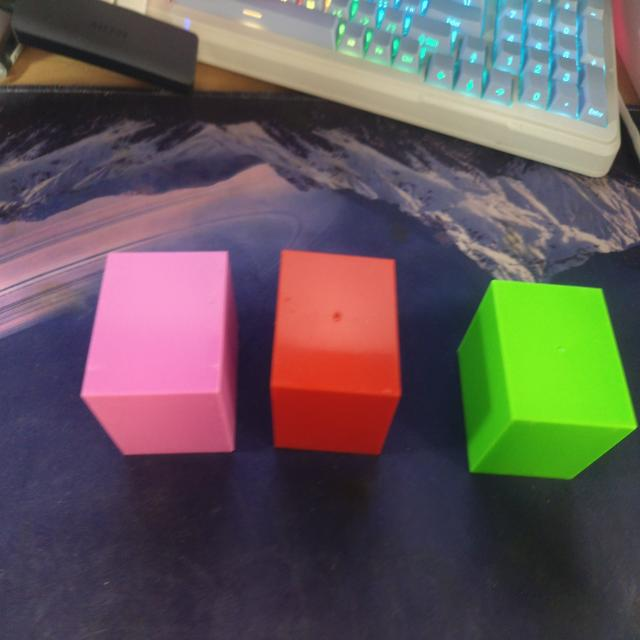green: (451, 270, 639, 485)
pink: (71, 236, 248, 464)
red: (261, 243, 410, 457)
